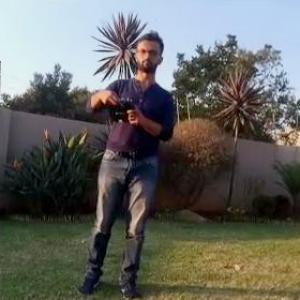follow: (71, 20, 178, 299)
